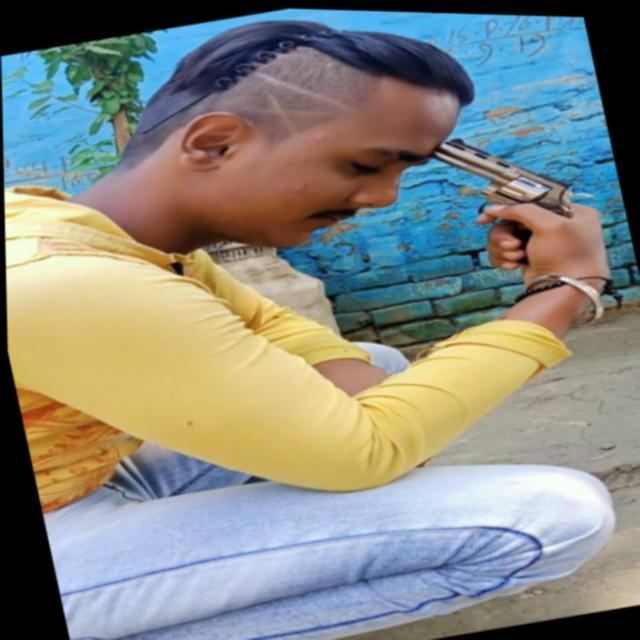weapon: (418, 108, 614, 282)
